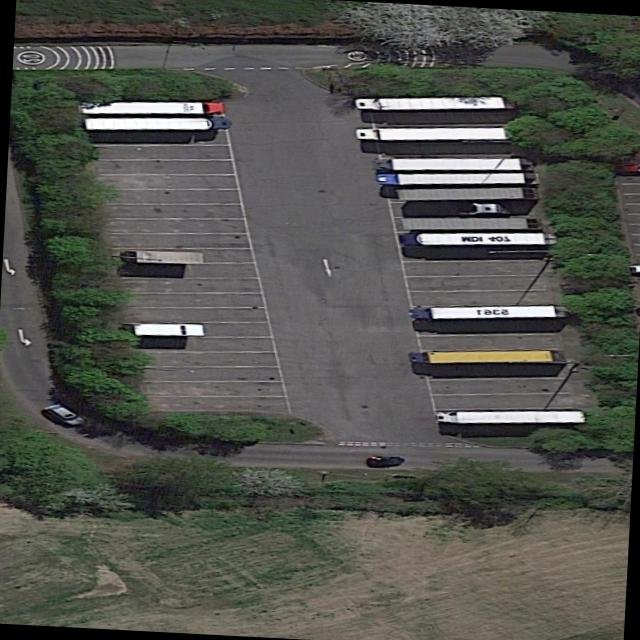large-vehicle: (407, 304, 576, 322), (407, 348, 570, 365), (351, 95, 521, 111), (433, 408, 591, 425), (373, 171, 545, 186), (352, 126, 518, 141), (398, 232, 562, 247), (373, 157, 537, 172), (76, 99, 229, 115), (82, 117, 235, 131)
small-vehicle: (42, 402, 92, 428), (367, 455, 407, 466)
